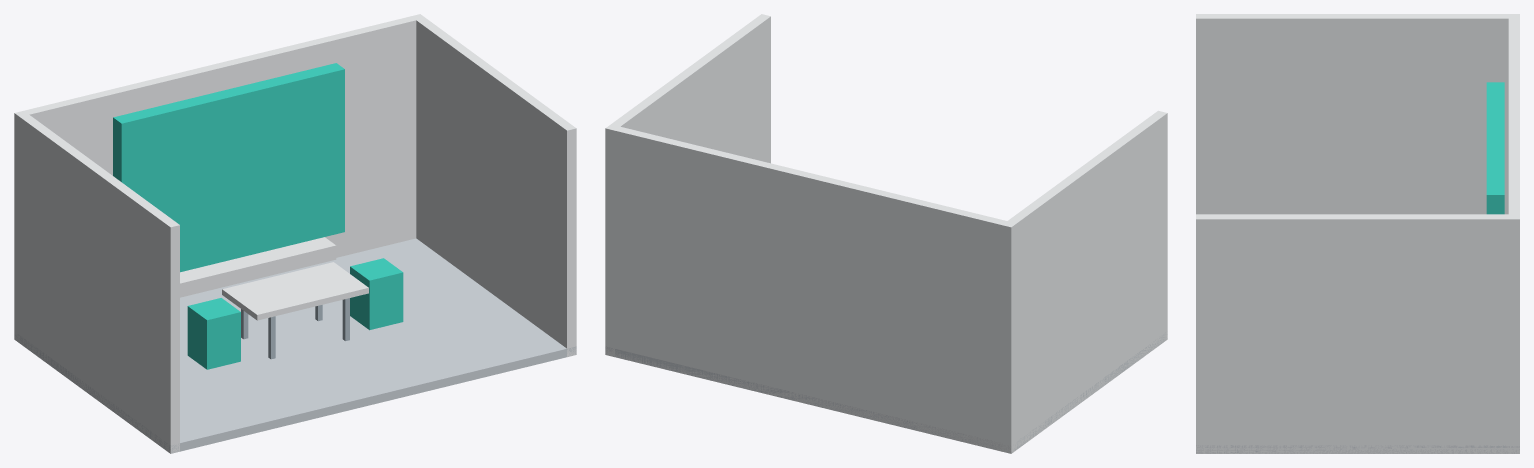
The picture shows the model from 3 angles, left to right: view 1: azimuth 30°, elevation 25°; view 2: azimuth 150°, elevation 25°; view 3: azimuth 270°, elevation 25°; orthographic projection. The views are drawn at different scales.
Visible parts, largest first — view 1: Exhibition Booth Concept; view 2: Exhibition Booth Concept; view 3: Exhibition Booth Concept.
Boxes of the visible parts, box(x1,y1,x2,y2) form: Exhibition Booth Concept: box(14, 14, 576, 453); Exhibition Booth Concept: box(605, 14, 1167, 453); Exhibition Booth Concept: box(1196, 14, 1519, 453).
Size of the model in its own units: 6 by 3.2 by 4.
